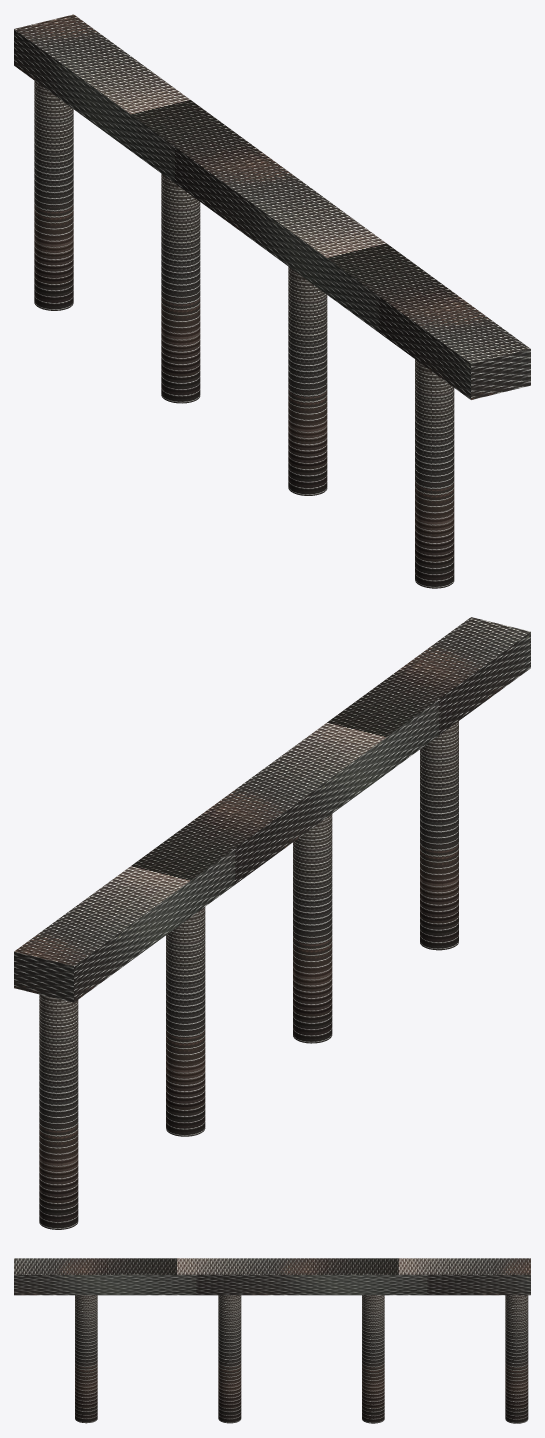
File: Rails.obj
The picture shows the model from 3 angles, top to bottom: view 1: azimuth 30°, elevation 25°; view 2: azimuth 150°, elevation 25°; view 3: azimuth 270°, elevation 25°; orthographic projection. The views are drawn at different scales.
Parts seen in each view (by area): view 1: Rails; view 2: Rails; view 3: Rails.
Boxes of the visible parts, <box> form: Rails: <box>14,14,530,588</box>; Rails: <box>14,617,530,1229</box>; Rails: <box>14,1258,530,1423</box>.
Bounding box in the file's own units: 0.0354 × 0.1532 × 0.4683.
1 material, 1 textured.
